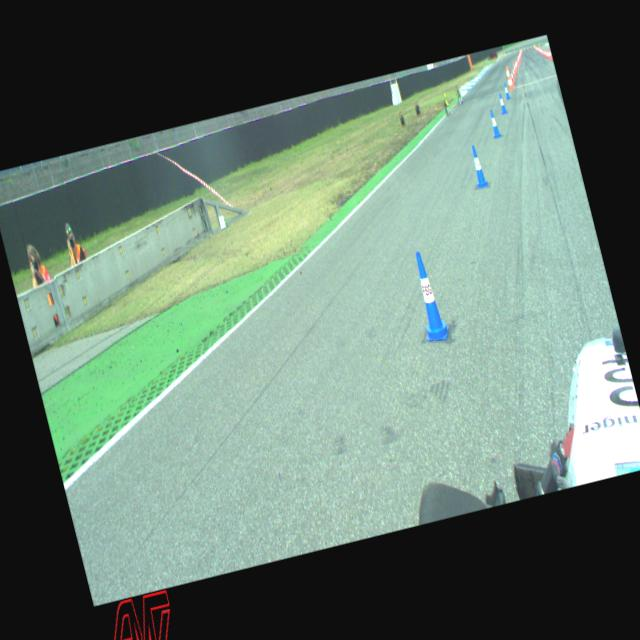blue_cone: (406, 248, 452, 342), (467, 144, 488, 188), (487, 108, 501, 138), (497, 92, 507, 114), (502, 82, 510, 99)
large_orange_cone: (504, 66, 514, 90), (506, 65, 514, 88)
orange_cone: (509, 70, 515, 82), (511, 66, 516, 77)
yellow_cone: (442, 92, 448, 104)
